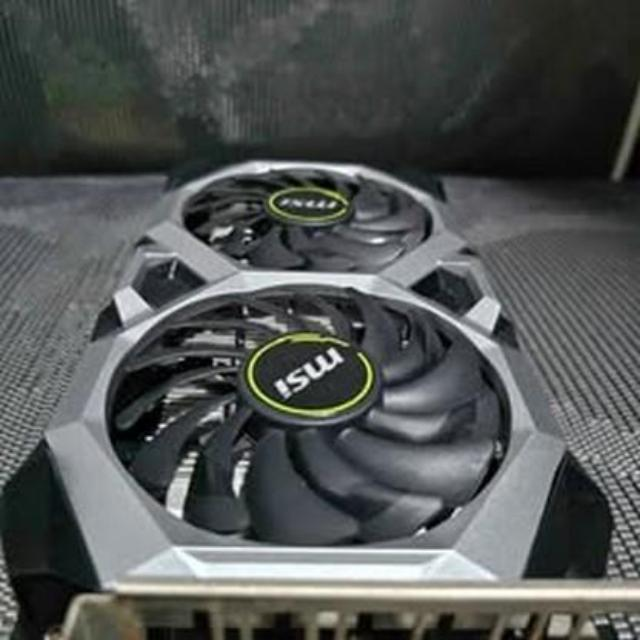GPU: (26, 134, 606, 640)
